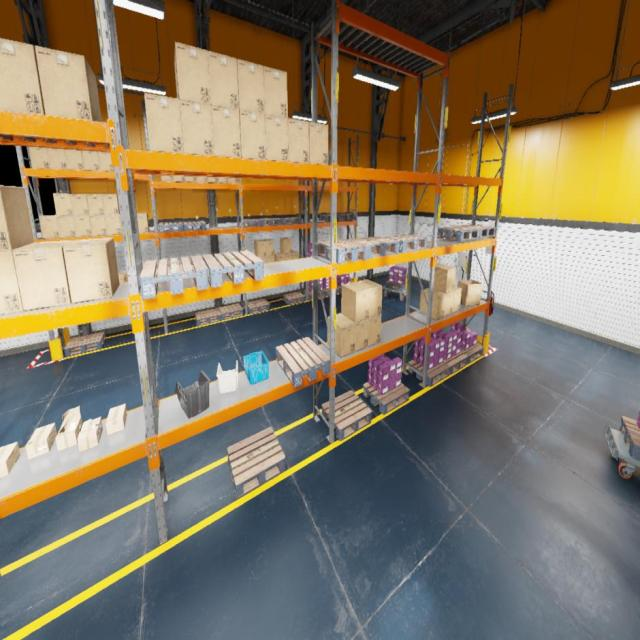box: (35, 46, 101, 121), (12, 240, 76, 310), (63, 238, 119, 304), (0, 38, 46, 115), (144, 93, 184, 153), (174, 42, 211, 104), (0, 185, 34, 251), (180, 99, 214, 156), (208, 50, 239, 110), (237, 58, 265, 114), (0, 250, 24, 314), (211, 106, 241, 157), (240, 110, 266, 160), (264, 66, 288, 118), (328, 313, 356, 357), (56, 406, 82, 451), (341, 282, 370, 322), (26, 422, 56, 460), (265, 115, 289, 162), (356, 279, 382, 317), (288, 118, 309, 164), (78, 417, 102, 452), (309, 121, 328, 165), (420, 288, 446, 319), (0, 442, 20, 478), (434, 263, 456, 293), (106, 404, 127, 435), (458, 280, 482, 305), (28, 146, 51, 168), (435, 290, 454, 316), (39, 215, 60, 238), (368, 314, 382, 346), (355, 319, 369, 351), (53, 194, 73, 216), (47, 148, 67, 170), (57, 215, 76, 238), (64, 149, 84, 170), (73, 215, 92, 236), (70, 194, 89, 215), (82, 150, 100, 171), (102, 194, 120, 214), (89, 215, 107, 235), (87, 194, 104, 215), (105, 214, 121, 235), (98, 152, 114, 171), (137, 213, 149, 233), (452, 287, 461, 313), (254, 240, 266, 258), (281, 238, 292, 254), (264, 240, 274, 256), (118, 272, 128, 282), (274, 252, 284, 262), (161, 175, 174, 181), (196, 176, 208, 182), (185, 176, 197, 182), (282, 253, 292, 260), (174, 176, 185, 182), (266, 255, 274, 263), (119, 214, 122, 234), (218, 177, 228, 183), (208, 176, 218, 182), (292, 252, 299, 260), (228, 178, 238, 183), (260, 256, 266, 262)
pallets: (227, 427, 285, 498), (140, 255, 208, 300), (276, 337, 330, 387), (321, 390, 372, 441), (202, 250, 264, 287), (363, 382, 409, 414), (318, 240, 370, 264), (408, 360, 450, 387), (348, 236, 399, 258), (64, 331, 106, 357), (619, 416, 640, 461), (384, 234, 428, 253), (437, 226, 479, 242), (443, 352, 468, 374), (456, 225, 496, 238), (196, 308, 222, 326), (460, 344, 484, 363), (218, 304, 243, 320), (247, 299, 270, 314), (282, 291, 306, 305), (159, 222, 183, 232), (182, 222, 206, 232), (304, 290, 326, 300), (385, 280, 405, 290), (259, 218, 282, 226), (318, 214, 340, 222), (240, 220, 262, 228), (322, 287, 340, 296), (279, 217, 302, 224), (336, 213, 355, 220), (337, 284, 342, 292), (0, 572, 1, 577)
